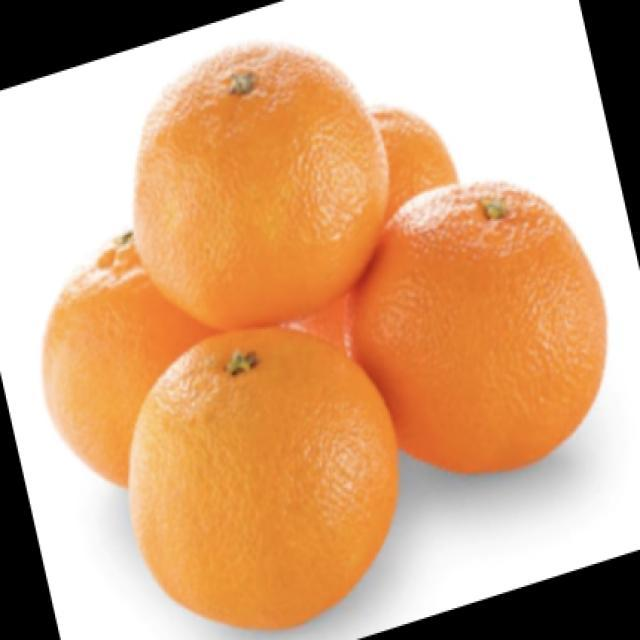matang: (130, 328, 397, 628), (350, 183, 606, 472), (135, 46, 389, 328), (44, 237, 218, 486), (374, 108, 456, 217)
